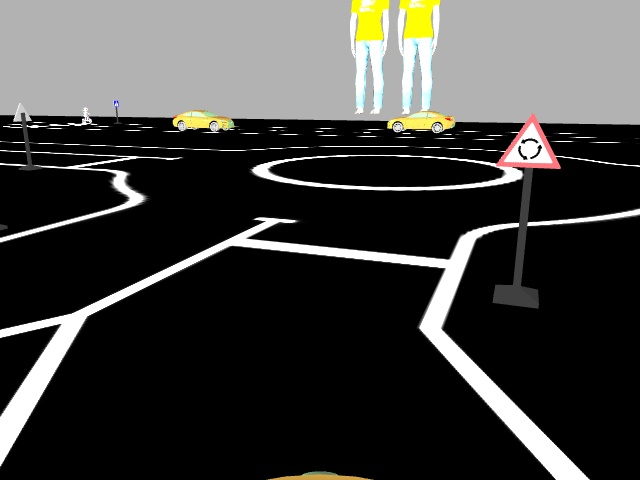Roundabout: (494, 111, 561, 169)
